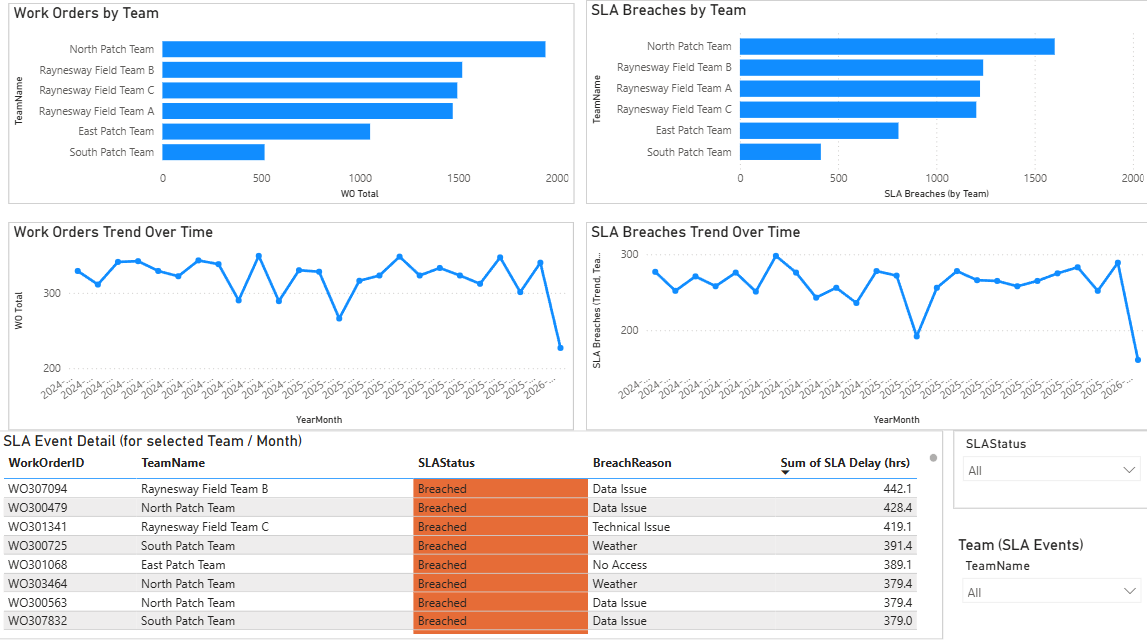

Layout of this report page (visuals, bound fields, positions):
{"tool":"powerbi","page":{"name":"Operational Performance","canvas":[1280,720],"ordinal":1},"visuals":[{"type":"clusteredBarChart","title":"Work Orders by Team","fields":{"Y":["Measures (2).WO Total"],"Category":["DimTeam.TeamName"]},"box":[11.7,3.3,628.3,223.3],"z":0},{"type":"clusteredBarChart","title":"SLA Breaches by Team","fields":{"Category":["DimTeam.TeamName"],"Y":["Measures (2).SLA Breaches (by Team)"]},"box":[653.3,0,626.7,226.7],"z":1000},{"type":"lineChart","title":"Work Orders Trend Over Time","fields":{"Category":["DimDate.YearMonth"],"Y":["Measures (2).WO Total"]},"box":[11.3,246.1,628.3,231.5],"z":2000},{"type":"lineChart","title":"SLA Breaches Trend Over Time","fields":{"Category":["DimDate.YearMonth"],"Y":["Measures (2).SLA Breaches (Trend, Team-aware)"]},"box":[652.5,246.1,628.3,231.5],"z":3000},{"type":"tableEx","title":"SLA Event Detail (for selected Team / Month)","fields":{"Values":["FactSLAEvent.WorkOrderID","FactSLAEvent.TeamName","FactSLAEvent.SLAStatus","FactSLAEvent.BreachReason","Sum(FactSLAEvent.SLADelayHours)"]},"box":[0,478.3,1050,231.7],"z":4000},{"type":"slicer","fields":{"Values":["FactSLAEvent.SLAStatus"]},"box":[1061.7,478.3,218.3,86.7],"z":6000},{"type":"slicer","title":"Team (SLA Events)","fields":{"Values":["FactSLAEvent.TeamName"]},"box":[1061.7,595,218.3,111.7],"z":6001}]}

Visuals, with their boxes in screenshot pixels (x1, y1, x2, y2), scaled from the page's 1280x720 canvas onto the 1147x640 screenshot:
"Work Orders by Team" clusteredBarChart: {"left": 10, "top": 3, "right": 574, "bottom": 201}
"SLA Breaches by Team" clusteredBarChart: {"left": 585, "top": 0, "right": 1146, "bottom": 202}
"Work Orders Trend Over Time" lineChart: {"left": 10, "top": 219, "right": 573, "bottom": 425}
"SLA Breaches Trend Over Time" lineChart: {"left": 585, "top": 219, "right": 1146, "bottom": 425}
"SLA Event Detail (for selected Team / Month)" tableEx: {"left": 0, "top": 425, "right": 941, "bottom": 631}
slicer - FactSLAEvent.SLAStatus: {"left": 951, "top": 425, "right": 1146, "bottom": 502}
"Team (SLA Events)" slicer: {"left": 951, "top": 529, "right": 1146, "bottom": 628}
